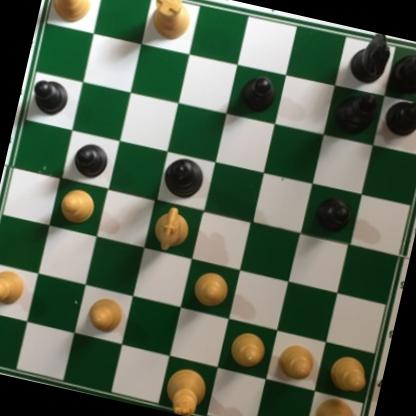black-bishop: (327, 83, 380, 138)
black-king: (158, 152, 209, 205)
black-knight: (343, 29, 397, 90)
black-pawn: (235, 70, 280, 118), (26, 75, 72, 119), (67, 138, 112, 182), (310, 194, 353, 236), (381, 93, 416, 140)
black-rook: (384, 38, 416, 104)
white-king: (156, 361, 210, 416)
white-knight: (146, 201, 195, 258)
white-pawn: (82, 289, 130, 339), (54, 180, 102, 229), (223, 327, 272, 374), (323, 347, 372, 391), (273, 339, 319, 385), (185, 265, 228, 311), (0, 262, 30, 307)
white-queen: (39, 0, 99, 26)
white-rook: (142, 0, 195, 45), (306, 390, 367, 416)
